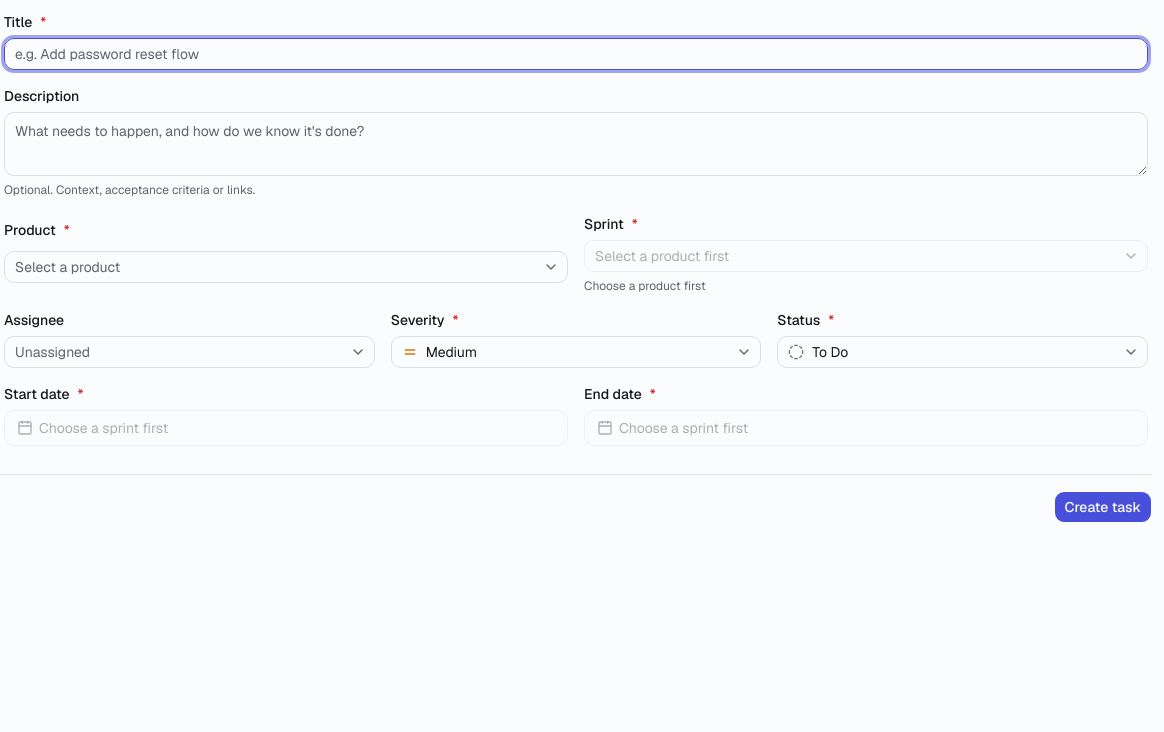
it: TaskForm sprint selection › shows required-field errors and sends nothing when submitted empty
Step 1. Click the button "Create task" → (1103, 507), box [1054,491,1152,523]
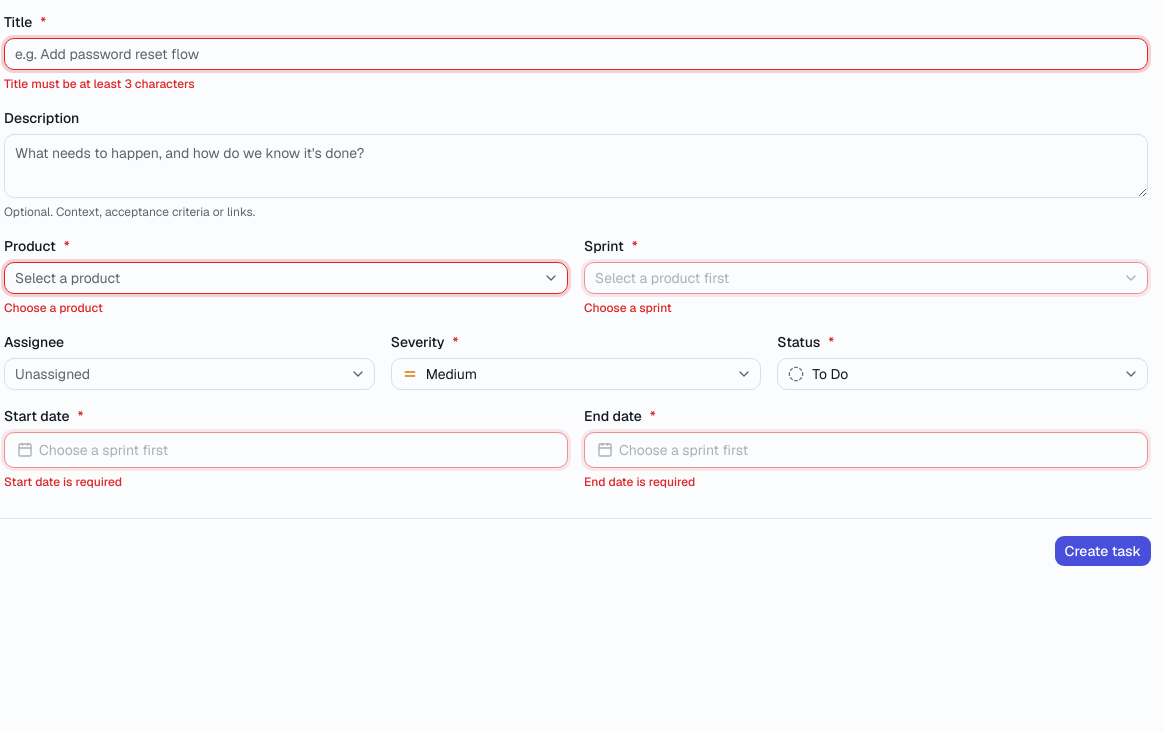
Expected: the text "Choose a product" is shown, [4,300,103,316]
Now the text "Title must be at least 3 characters" is shown, box [4,76,195,92]
Now the text "Choose a sprint" is shown, box [584,300,672,316]
